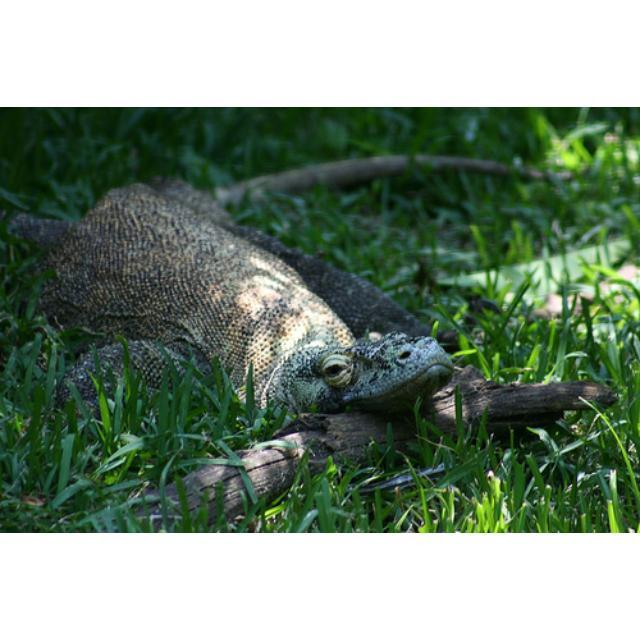KomodoDragon: (4, 154, 586, 439)
